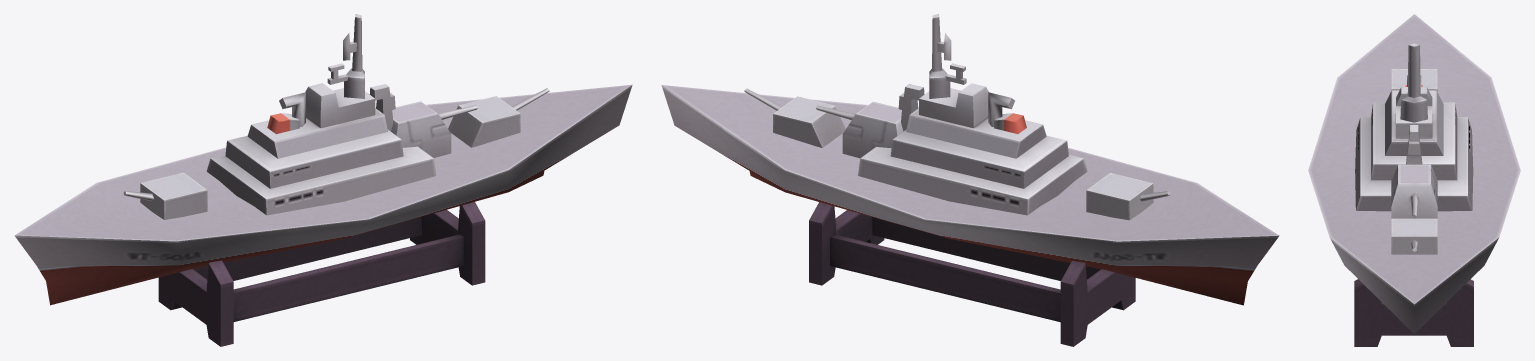
File: ShaShouJia_01_junjianmoxing_01.FBX
The picture shows the model from 3 angles, left to right: view 1: azimuth 30°, elevation 25°; view 2: azimuth 150°, elevation 25°; view 3: azimuth 270°, elevation 25°; orthographic projection. The views are drawn at different scales.
Visible parts, largest first — view 1: ShaShouJia_01_junjianmoxing_01; view 2: ShaShouJia_01_junjianmoxing_01; view 3: ShaShouJia_01_junjianmoxing_01.
Part boxes in pixels (left/top/right/bottom): ShaShouJia_01_junjianmoxing_01: left=14, top=14, right=632, bottom=346; ShaShouJia_01_junjianmoxing_01: left=661, top=14, right=1279, bottom=346; ShaShouJia_01_junjianmoxing_01: left=1308, top=14, right=1520, bottom=346.
Bounding box in the file's own units: 595 × 245 × 184.
